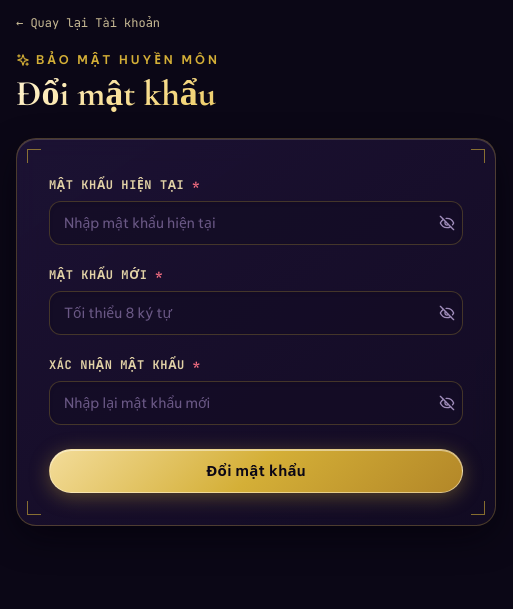
Test: ChangePassword Page › should render ChangePassword form inputs and submit
This screenshot has width=513, height=609.
Check: the heading "Đổi mật khẩu" is shown, box [16,74,496,114]
Check: the password field labelled "Mật khẩu mới" is shown, box [49,291,463,335]
In the password field labelled "Mật khẩu hiện tại": (256, 223) [49,201,463,245], type "OldPassword123"
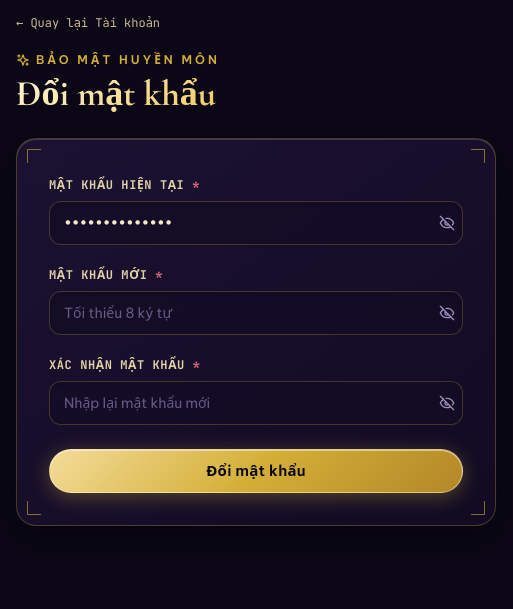
In the password field labelled "Mật khẩu mới": (256, 313) [49,291,463,335], type "NewPassword123"
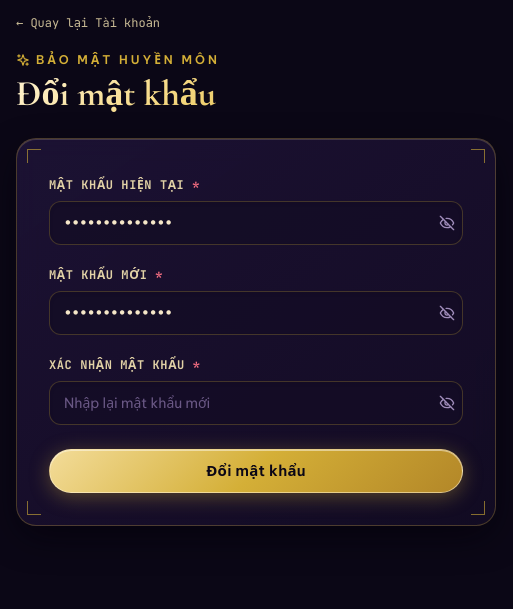
In the password field labelled "Xác nhận mật khẩu": (256, 403) [49,381,463,425], type "NewPassword123"
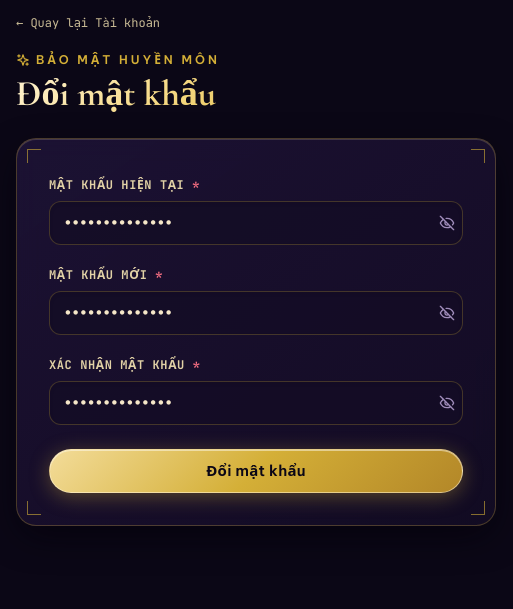
Click the button "Đổi mật khẩu": (256, 471) [49,449,463,493]
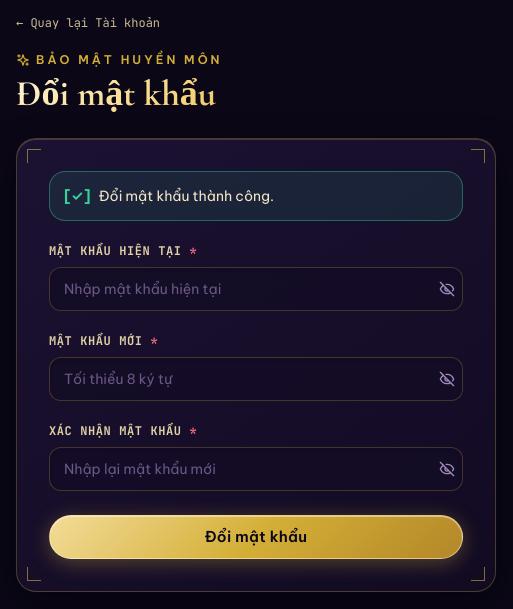
Check: the text "Đổi mật khẩu thành công." is shown, box [98,186,274,206]
